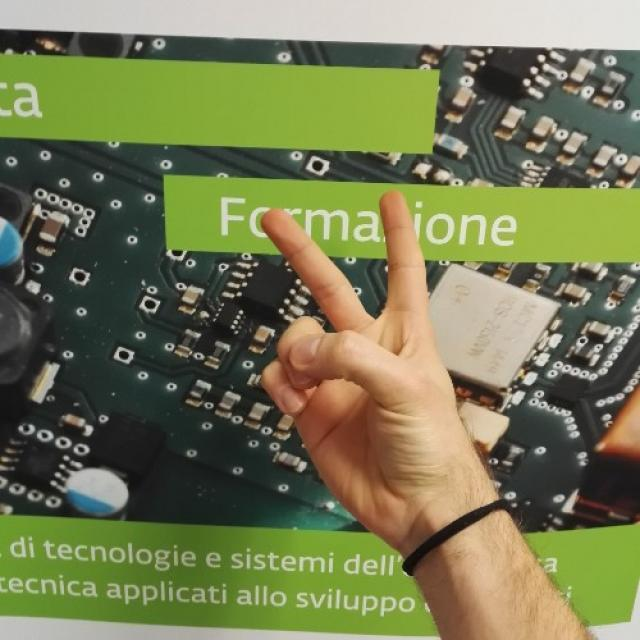scissors: (264, 191, 458, 483)
